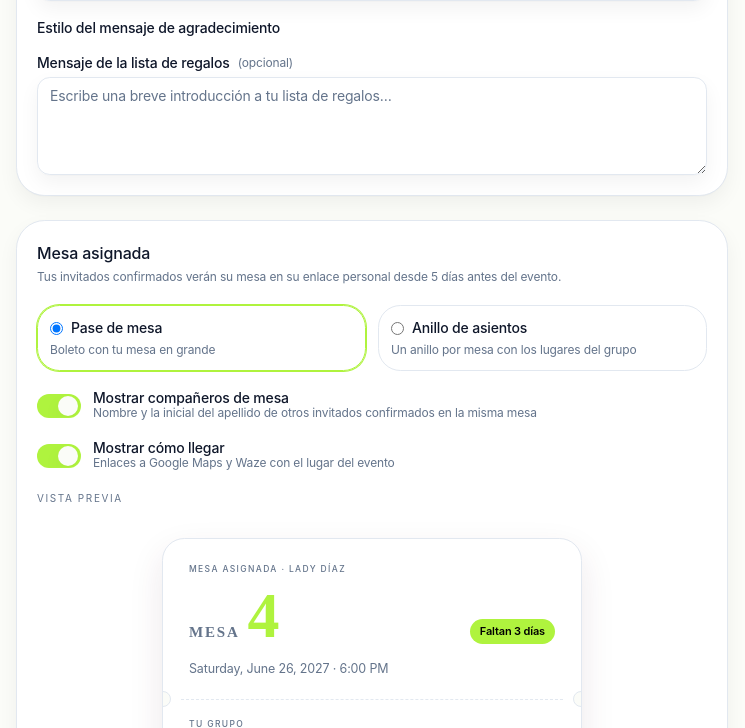
WishlistSettingsForm seating pass › updates the preview when the variant changes
The image size is (745, 728).
(page scrolled)
Expected: the text "Tu grupo" is shown, [189,718,244,727]
Click the radio button labelled "Anillo de asientos".
click(398, 328)  # box [391,322,404,334]
(page scrolled)
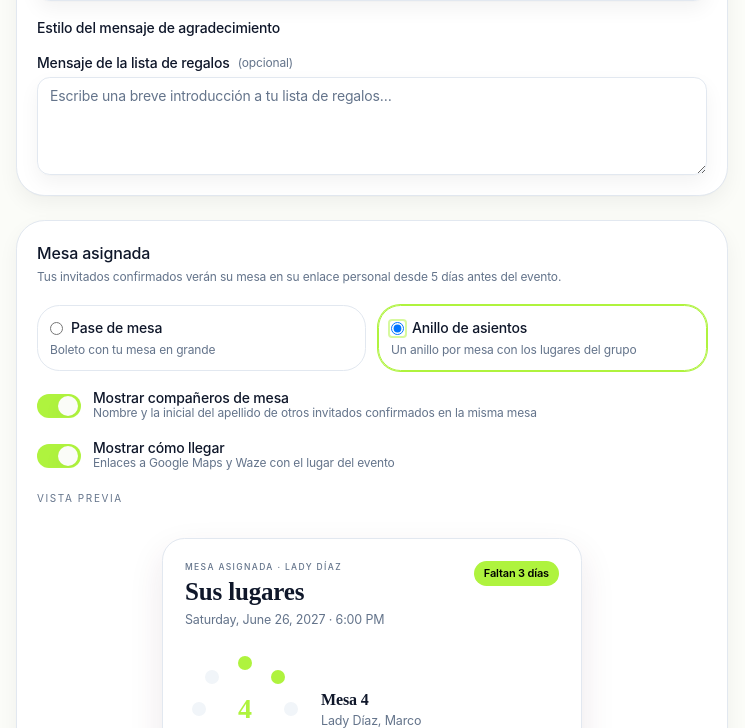
Expected: the text "Sus lugares" is shown, [185,578,304,605]
